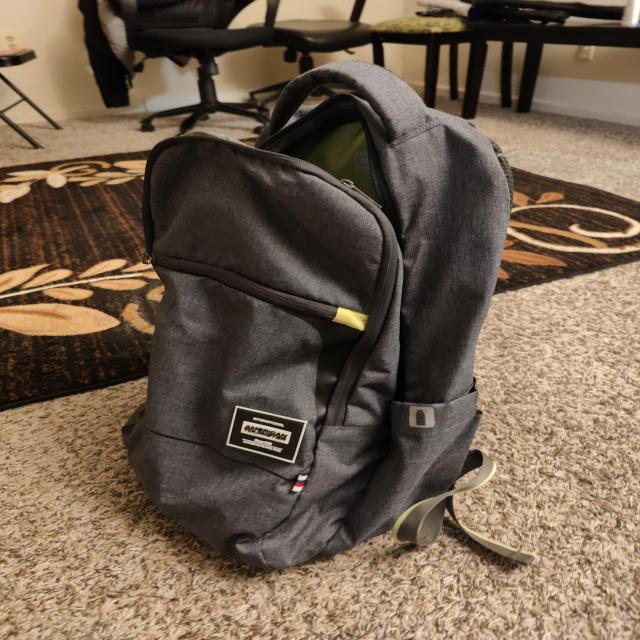bag: (188, 136, 426, 532)
